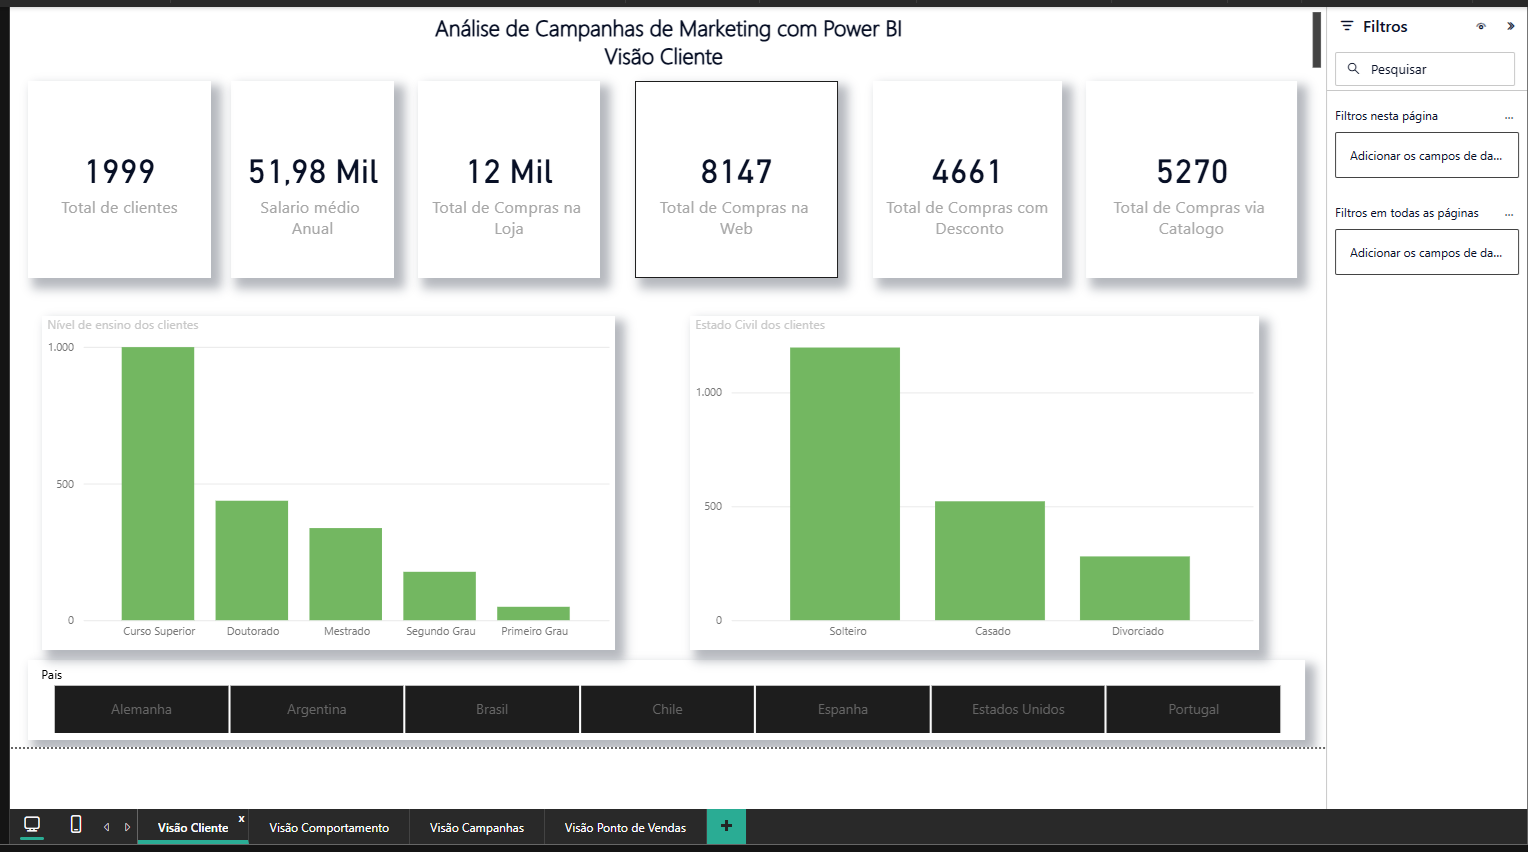

What the dashboard file says about the page in this screenshot:
{"tool":"powerbi","page":{"name":"Visão Cliente","canvas":[1280,720],"ordinal":0},"visuals":[{"type":"card","fields":{"Values":["CountNonNull(data.ID)"]},"box":[17.5,72,178,191.6],"z":0},{"type":"card","fields":{"Values":["Avg(data.Salario Anual)"]},"box":[215,72,158.5,191.6],"z":1000},{"type":"card","fields":{"Values":["Sum(data.Numero de Compras na Loja)"]},"box":[396.8,72,177,191.6],"z":2000},{"type":"card","fields":{"Values":["Sum(data.Numero de Compras na Web)"]},"box":[607.9,72,197.4,191.6],"z":3000},{"type":"card","fields":{"Values":["Sum(data.Numero de Compras com Desconto)"]},"box":[839.4,72,183.8,191.6],"z":4000},{"type":"card","fields":{"Values":["Sum(data.Numero de Compras via Catalogo)"]},"box":[1046.6,72,205.2,191.6],"z":5000},{"type":"textbox","box":[0,0,1280,65.2],"z":6000},{"type":"clusteredColumnChart","title":"Nível de ensino dos clientes","fields":{"Category":["data.Escolaridade"],"Y":["CountNonNull(data.ID)"]},"box":[31.1,300.5,557.3,324.9],"z":7000},{"type":"clusteredColumnChart","title":"Estado Civil dos clientes","fields":{"Category":["data.Estado Civil"],"Y":["CountNonNull(data.ID)"]},"box":[661.4,300.5,553.4,324.9],"z":8000},{"type":"slicer","fields":{"Values":["data.Pais"]},"box":[17.5,635.1,1242.1,77.8],"z":9000}]}

Visuals, with their boxes on the page's 1280x720 design canvas (x1, y1, x2, y2). These are canvas units, not pixel positions in the 1528x852 screenshot, which may show the page scaled, cropped or inside an application window:
card - CountNonNull(data.ID): detection(18, 72, 196, 264)
card - Avg(data.Salario Anual): detection(215, 72, 374, 264)
card - Sum(data.Numero de Compras na Loja): detection(397, 72, 574, 264)
card - Sum(data.Numero de Compras na Web): detection(608, 72, 805, 264)
card - Sum(data.Numero de Compras com Desconto): detection(839, 72, 1023, 264)
card - Sum(data.Numero de Compras via Catalogo): detection(1047, 72, 1252, 264)
textbox: detection(0, 0, 1280, 65)
"Nível de ensino dos clientes" clusteredColumnChart: detection(31, 300, 588, 625)
"Estado Civil dos clientes" clusteredColumnChart: detection(661, 300, 1215, 625)
slicer - data.Pais: detection(18, 635, 1260, 713)
